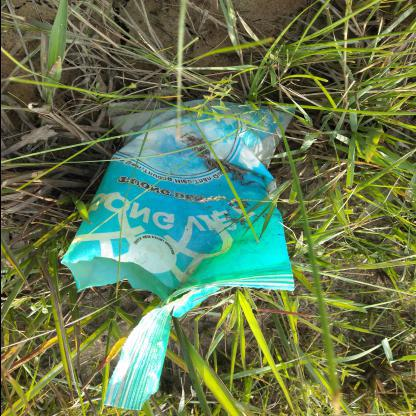plastik: (62, 101, 296, 410)
